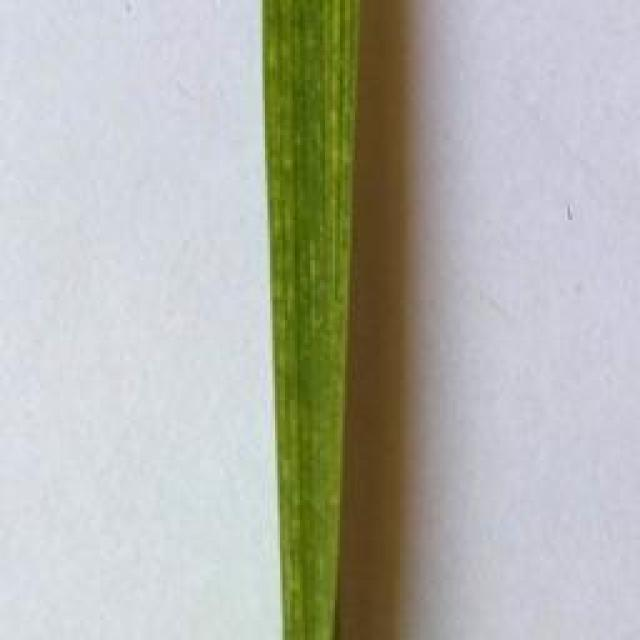Healthy-Plant: (256, 1, 360, 640)
